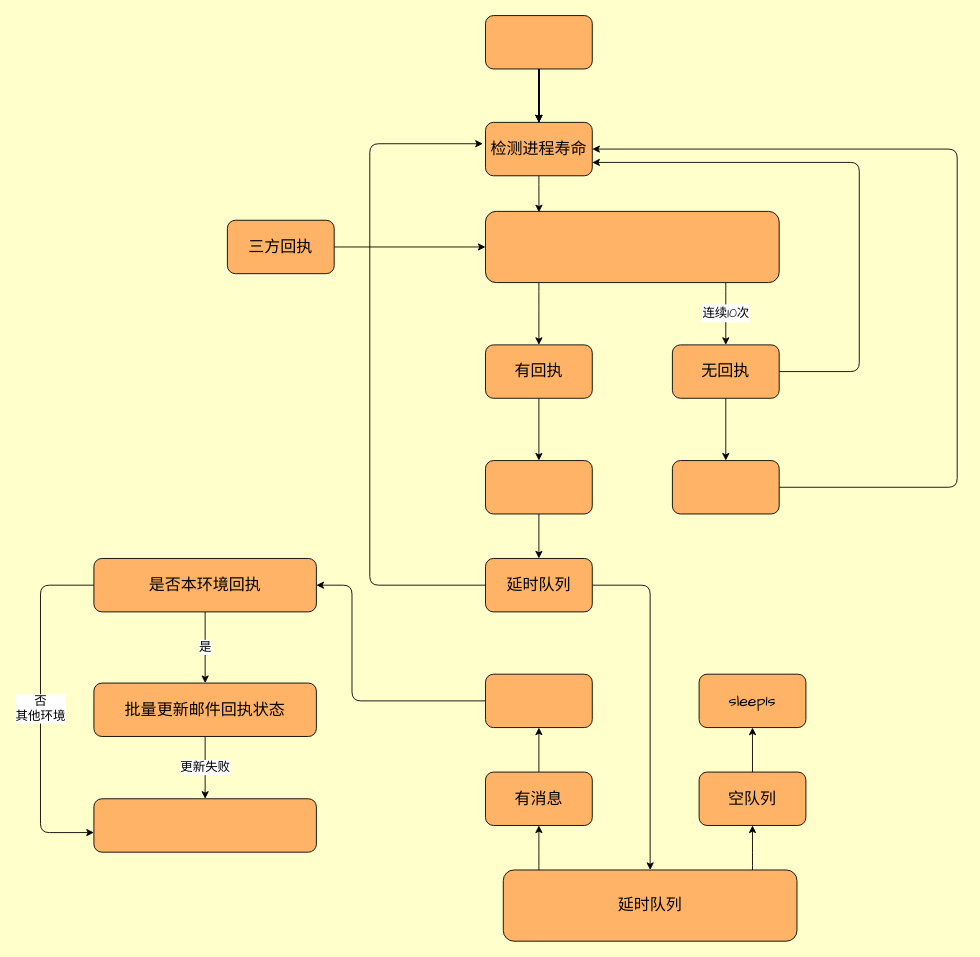
This 980x957 diagram has some shape labels left out. Here are the shapes that lost their labels. From the top down, the centre of each, then its label:
At (x=538, y=42): "supervisor".
At (x=632, y=246): "拉取回执".
At (x=538, y=487): "区分类型".
At (x=725, y=487): "sleep3s".
At (x=538, y=700): "处理回执".
At (x=204, y=825): "写入阿里云rds公共库".
